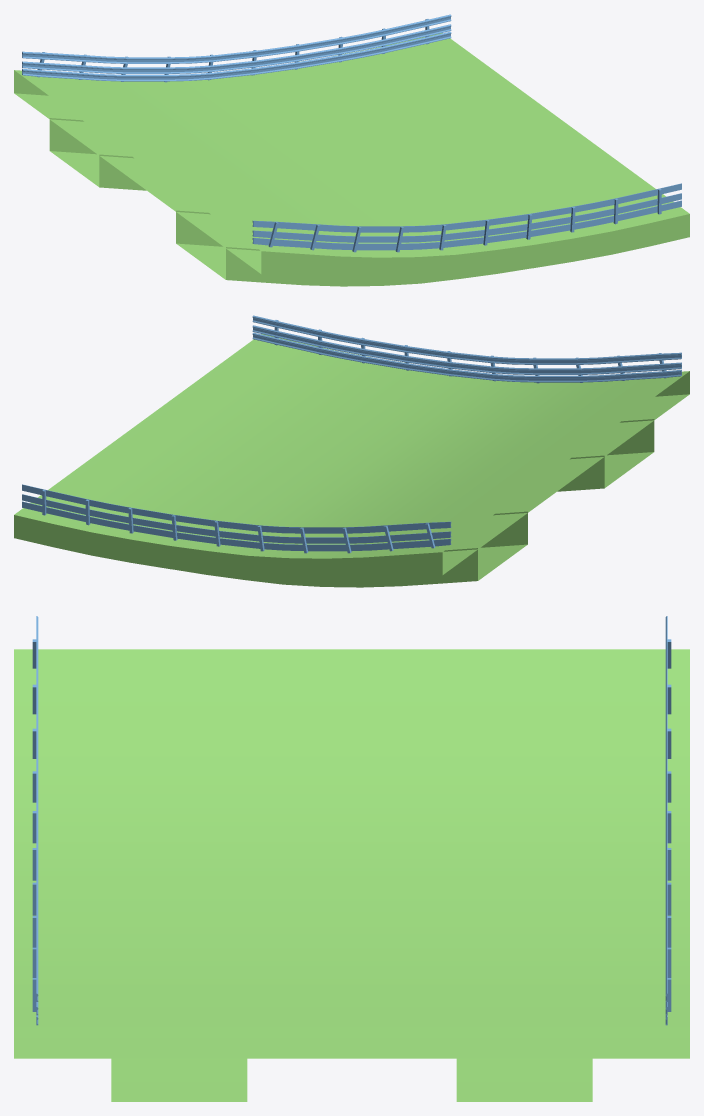
File: RoadUp.fbx
The picture shows the model from 3 angles, top to bottom: view 1: azimuth 30°, elevation 25°; view 2: azimuth 150°, elevation 25°; view 3: azimuth 270°, elevation 25°; orthographic projection. The views are drawn at different scales.
Parts seen in each view (by area): view 1: RoadRecht.001, RailingAppart.002; view 2: RoadRecht.001, RailingAppart.002; view 3: RoadRecht.001, RailingAppart.002.
Boxes of the visible parts, bbox=[...] form: RoadRecht.001: bbox=[14, 33, 689, 286]; RailingAppart.002: bbox=[22, 14, 681, 252]; RoadRecht.001: bbox=[14, 334, 689, 587]; RailingAppart.002: bbox=[22, 315, 681, 553]; RoadRecht.001: bbox=[14, 649, 689, 1101]; RailingAppart.002: bbox=[32, 616, 671, 1025].
Size of the model in its own units: 2000 by 653 by 2000.
